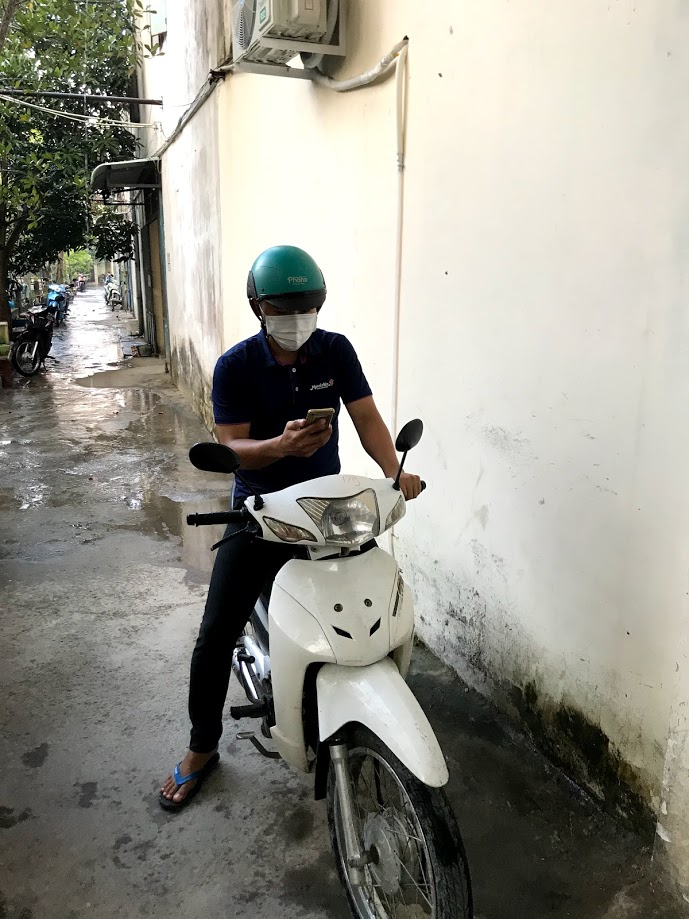dieu khien xe may: (219, 241, 424, 671)
su dung dien thoai: (245, 244, 338, 458)
